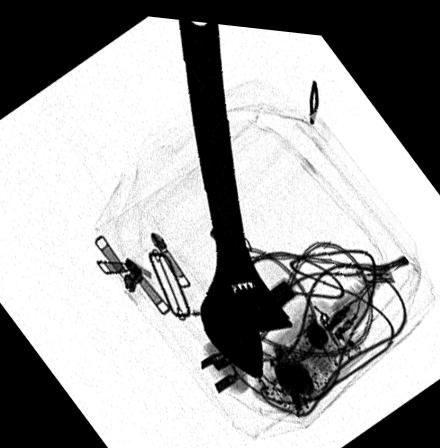Wrench: (178, 16, 291, 373)
